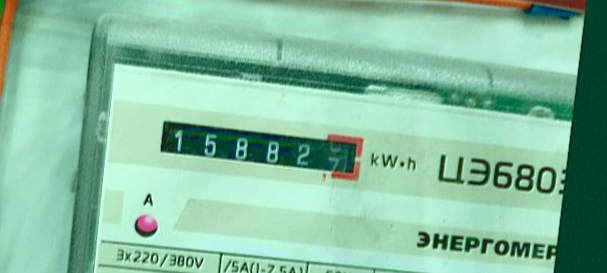1: (172, 127, 187, 155)
2: (295, 142, 314, 169)
5: (202, 132, 219, 160)
7: (325, 155, 342, 174)
8: (233, 136, 252, 163), (265, 140, 283, 166)
screen: (149, 109, 373, 192)
